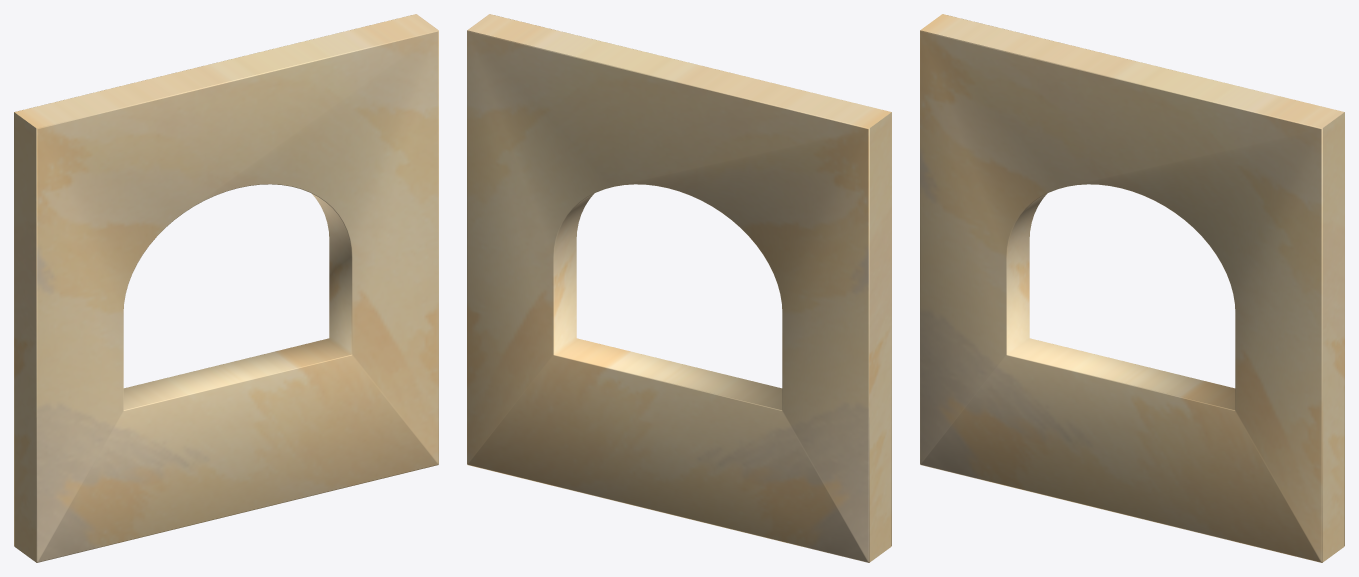
Rendered from CM_FacadeBay01_WindowOpening_3m.fbx.
3 views of the same model, side by side, from view 1: azimuth 30°, elevation 25°; view 2: azimuth 150°, elevation 25°; view 3: azimuth 330°, elevation 25° (orthographic).
Parts seen in each view (by area): view 1: CM_FacadeBay01_WindowOpening_3m_RevealedPlaster; view 2: CM_FacadeBay01_WindowOpening_3m_RevealedPlaster; view 3: CM_FacadeBay01_WindowOpening_3m_RevealedPlaster.
Part boxes in pixels (x1,y1,x2,y2): CM_FacadeBay01_WindowOpening_3m_RevealedPlaster: (14, 14, 438, 562); CM_FacadeBay01_WindowOpening_3m_RevealedPlaster: (467, 14, 891, 562); CM_FacadeBay01_WindowOpening_3m_RevealedPlaster: (920, 14, 1344, 562).
Size of the model in its own units: 2.82 by 2.91 by 0.2821.
